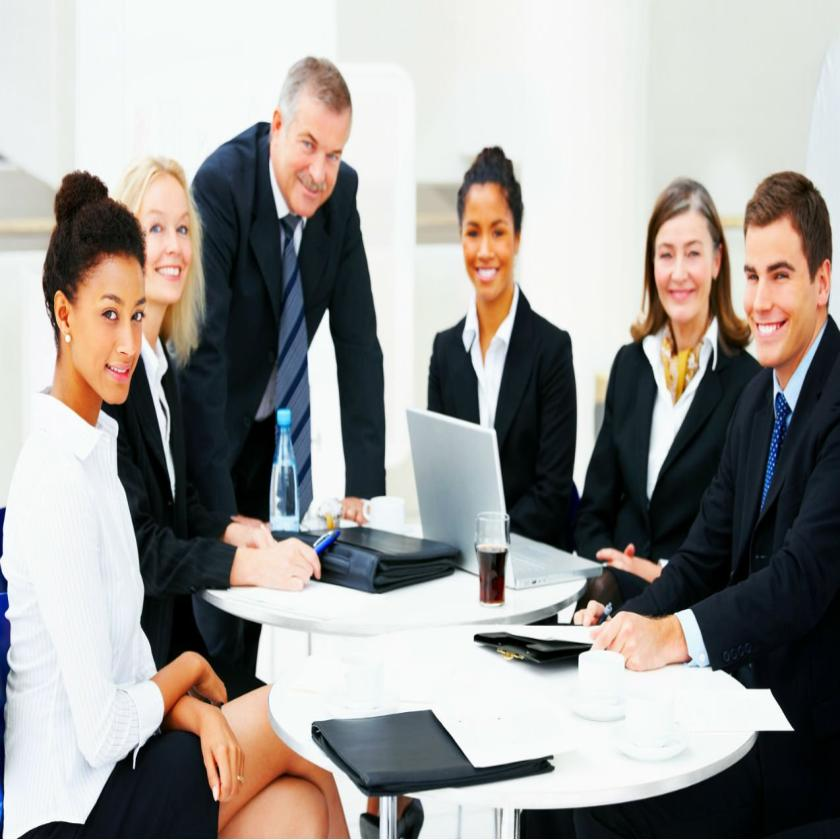Sin_casco: (37, 171, 150, 430), (740, 169, 834, 378), (632, 162, 730, 344), (124, 144, 196, 353), (451, 137, 528, 312), (274, 54, 353, 224)
